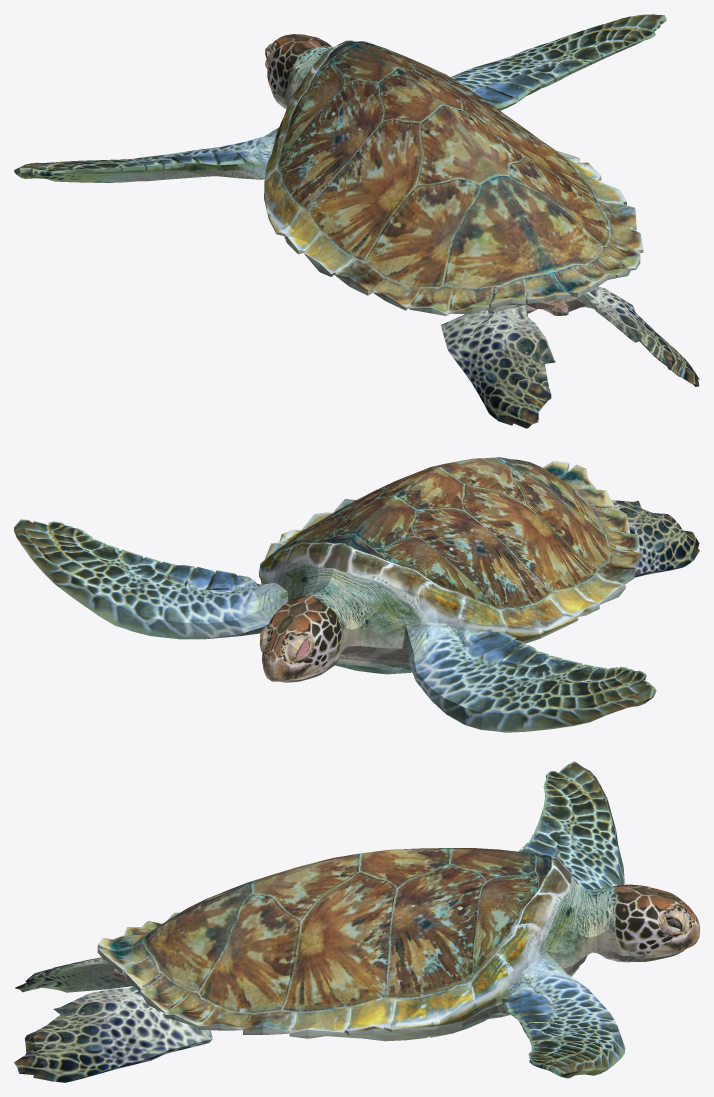
Rendered from frame_8.obj.
The picture shows the model from 3 angles, top to bottom: view 1: azimuth 30°, elevation 25°; view 2: azimuth 150°, elevation 25°; view 3: azimuth 270°, elevation 25°; orthographic projection.
Visible parts, largest first — view 1: Turtle GEO Turtle; view 2: Turtle GEO Turtle; view 3: Turtle GEO Turtle.
Part boxes in pixels (x1=…): Turtle GEO Turtle: x1=14, y1=14, x2=699, y2=428; Turtle GEO Turtle: x1=14, y1=457, x2=699, y2=732; Turtle GEO Turtle: x1=14, y1=761, x2=699, y2=1082.
Size of the model in its own units: 108 by 30.39 by 99.59.
Materials: 1 (1 with a texture image).
